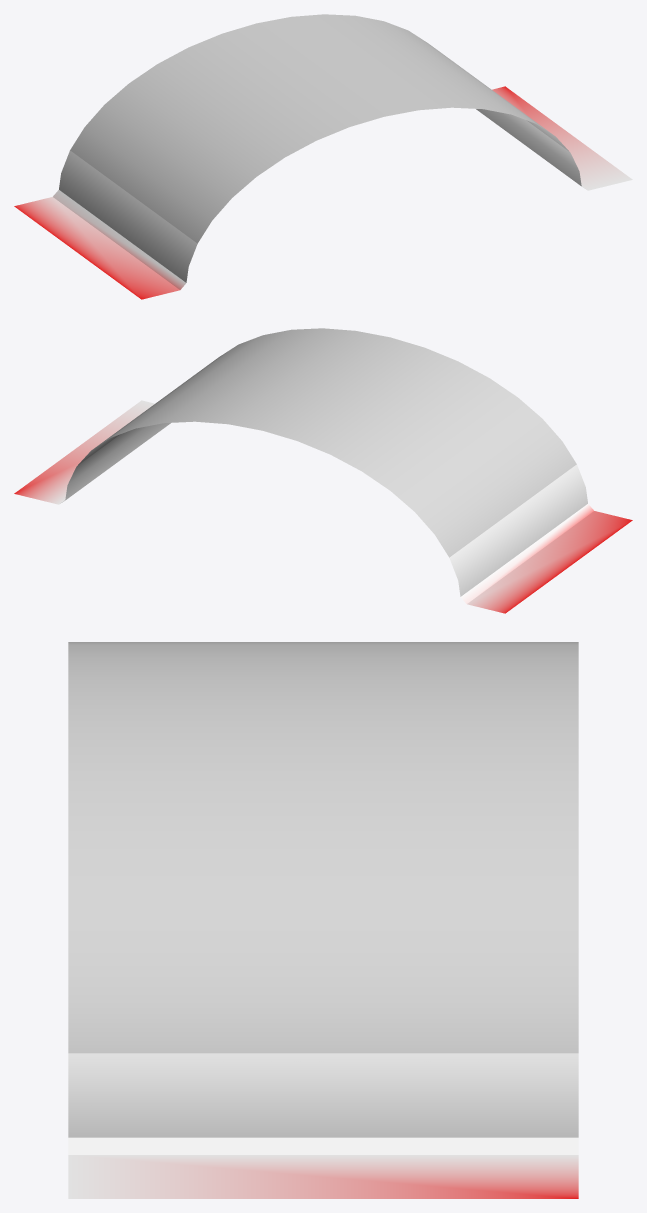
The model's file is SM_MERGED_SM_Stairs_Ceiling_01_160.FBX.
The picture shows the model from 3 angles, top to bottom: view 1: azimuth 30°, elevation 25°; view 2: azimuth 150°, elevation 25°; view 3: azimuth 270°, elevation 25°; orthographic projection. The views are drawn at different scales.
Parts seen in each view (by area): view 1: SM_MERGED_SM_Stairs_Ceiling_01_160; view 2: SM_MERGED_SM_Stairs_Ceiling_01_160; view 3: SM_MERGED_SM_Stairs_Ceiling_01_160.
Part boxes in pixels (left/top/right/bottom): SM_MERGED_SM_Stairs_Ceiling_01_160: left=14, top=14, right=632, bottom=299; SM_MERGED_SM_Stairs_Ceiling_01_160: left=14, top=328, right=632, bottom=613; SM_MERGED_SM_Stairs_Ceiling_01_160: left=68, top=642, right=578, bottom=1198.
Size of what is drawn, in the model's own units: 500 by 225 by 120.
